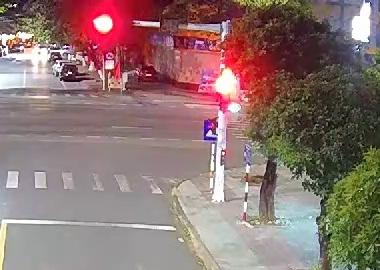red_light: (213, 63, 239, 117), (93, 15, 115, 35)
stop_line: (2, 215, 179, 232)
